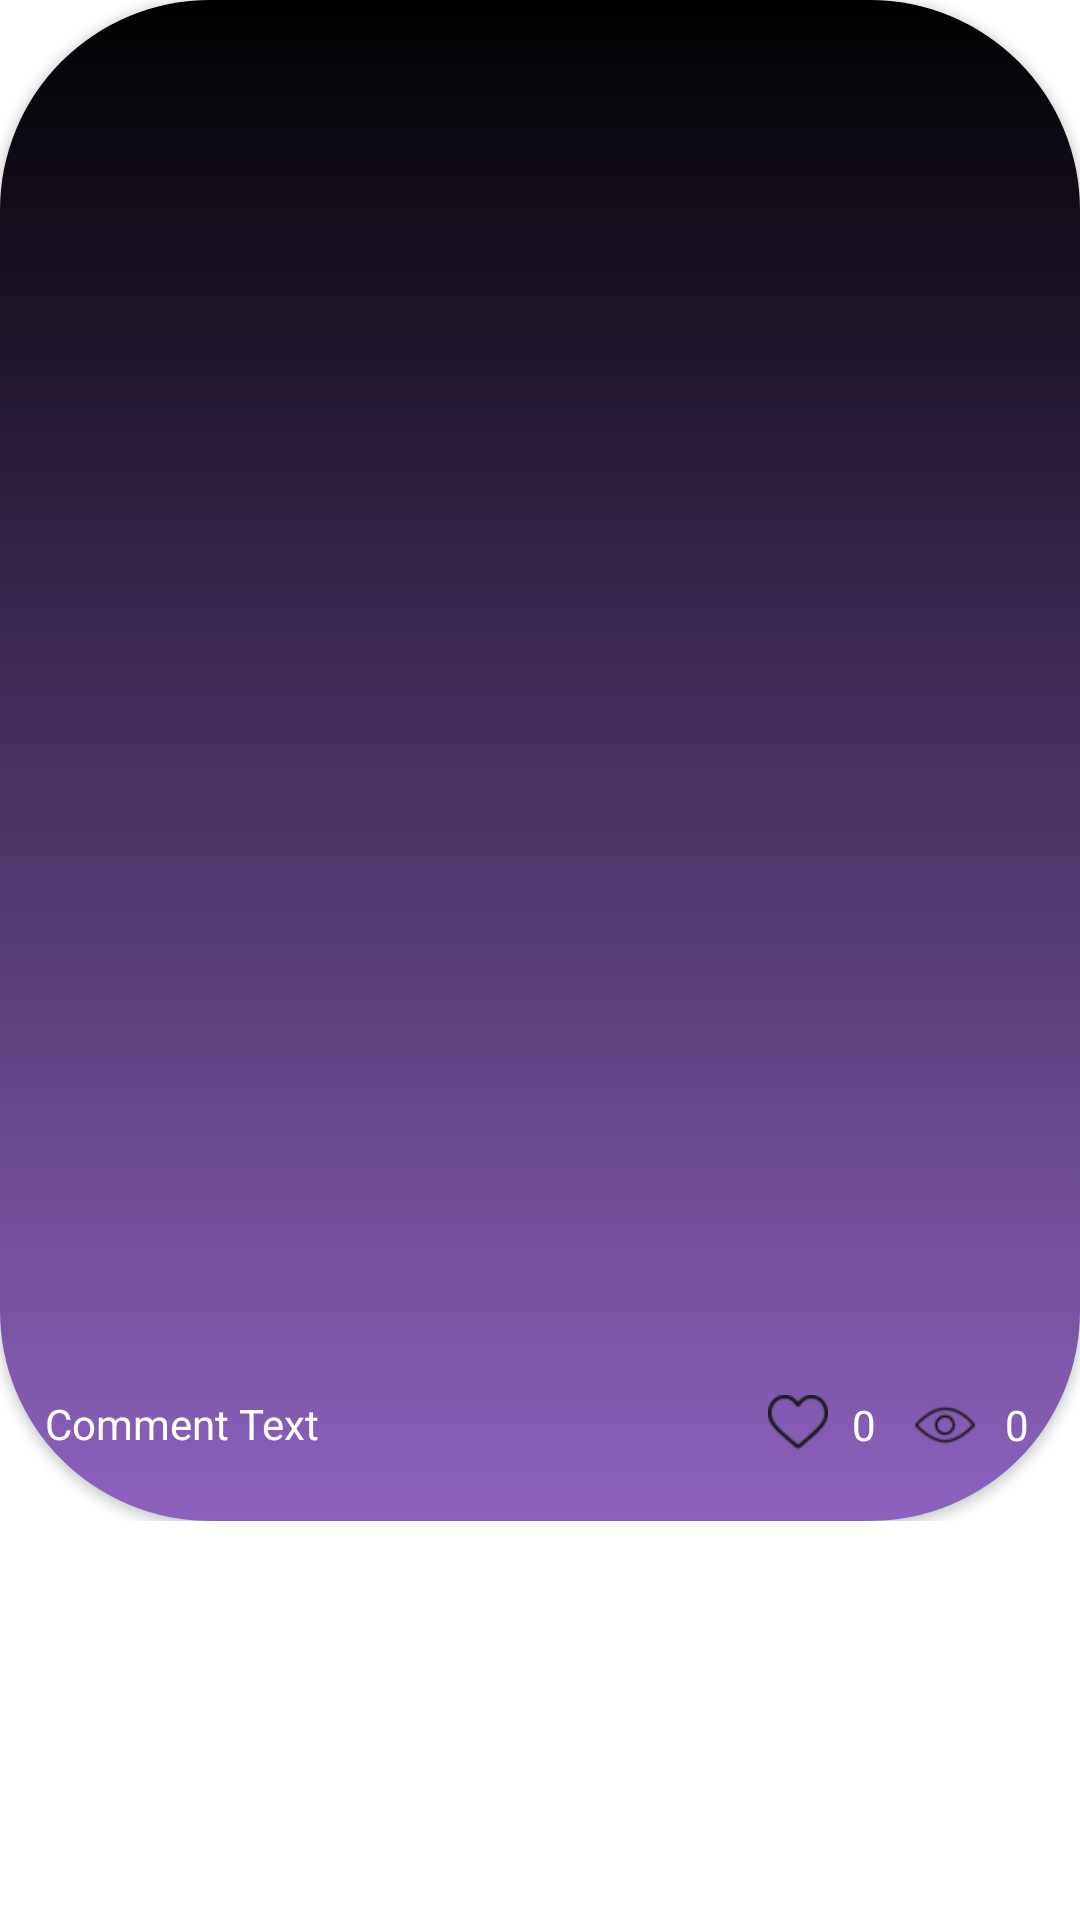

Locate icon controls on the screen. Image size 1080px×1920px, boxes as bbox=[x1, y1, x2, y2].
izlenme: bbox=[915, 1406, 975, 1444]
like: bbox=[768, 1395, 828, 1449]
